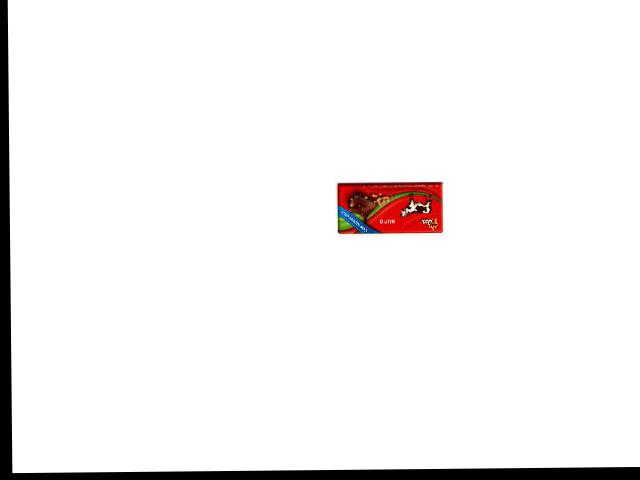chocolate: (338, 183, 447, 234)
